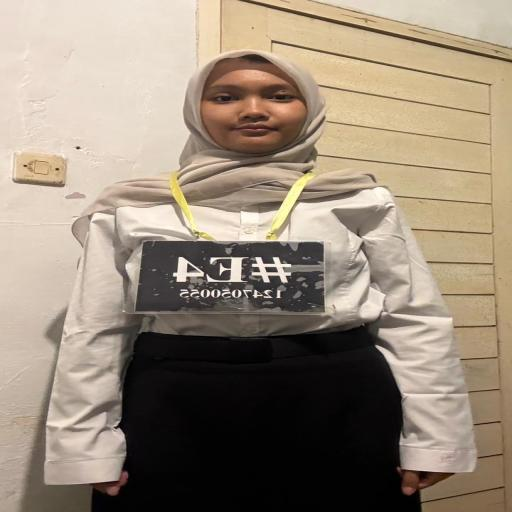kemeja_benar: (76, 190, 428, 336)
kerudung_salah: (100, 44, 388, 205)
nametag_ada: (126, 182, 337, 324)
rok_benar: (106, 356, 404, 512)
sabuk_ada: (116, 324, 382, 363)
